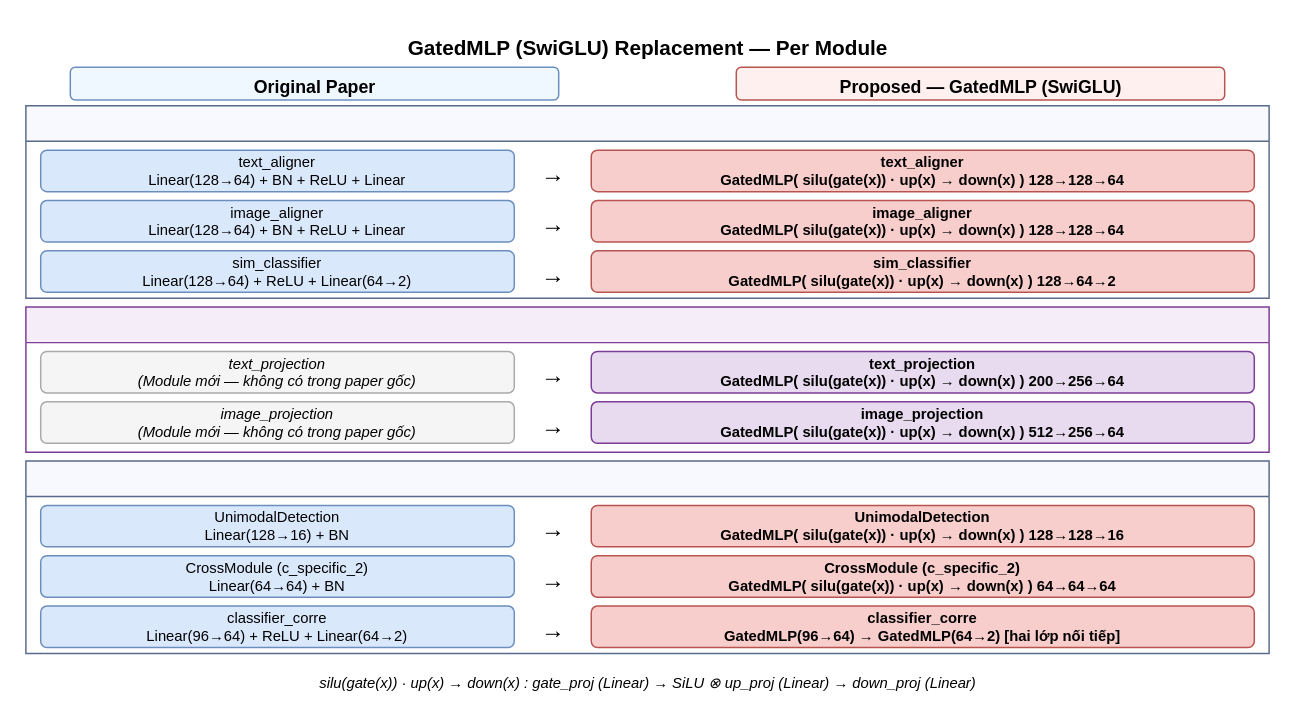
The diagram is 1295 pixels wide and 718 high, and some of its shapes have lost their labels. The box of each missing label's shape, as (x1, y1, x2, y2) in pixels:
CLIP Contrastive Learning [Thêm mới]: (24, 306, 1269, 452)
Task 1 — Cross-modal Contrastive Learning: (24, 104, 1269, 298)
Task 2 — Cross-modal Fusion & Aggregation: (24, 460, 1269, 653)
